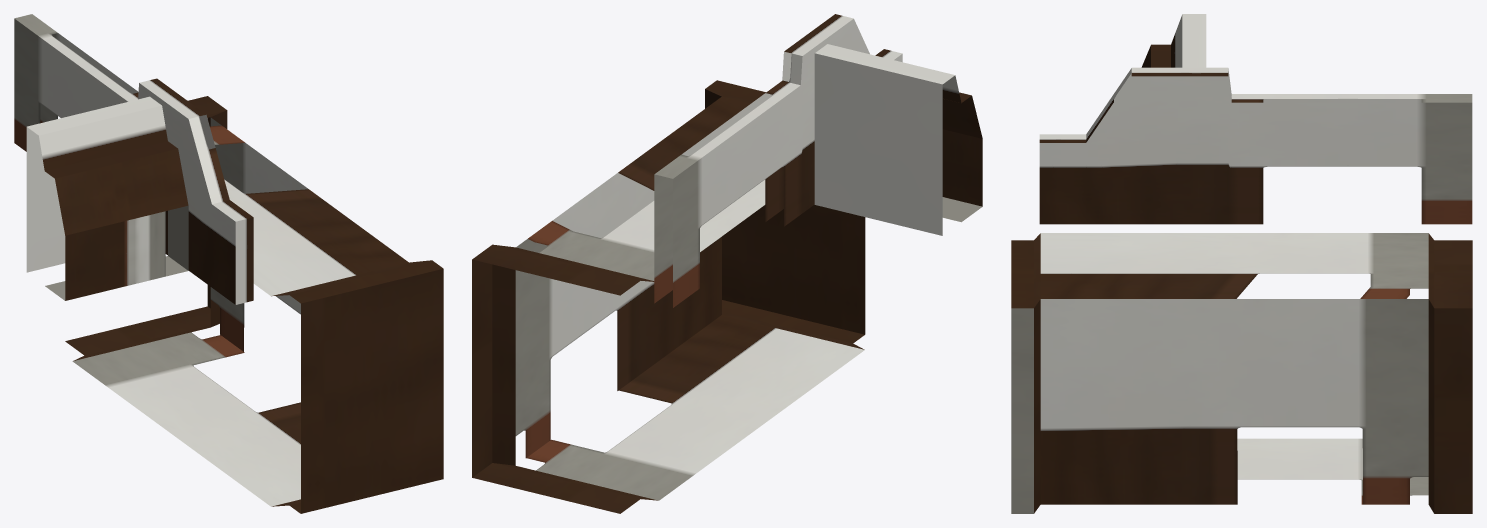
The picture shows the model from 3 angles, left to right: view 1: azimuth 30°, elevation 25°; view 2: azimuth 150°, elevation 25°; view 3: azimuth 270°, elevation 25°; orthographic projection. The views are drawn at different scales.
Bounding box in the file's own units: 0.8763 × 0.9558 × 1.13.
